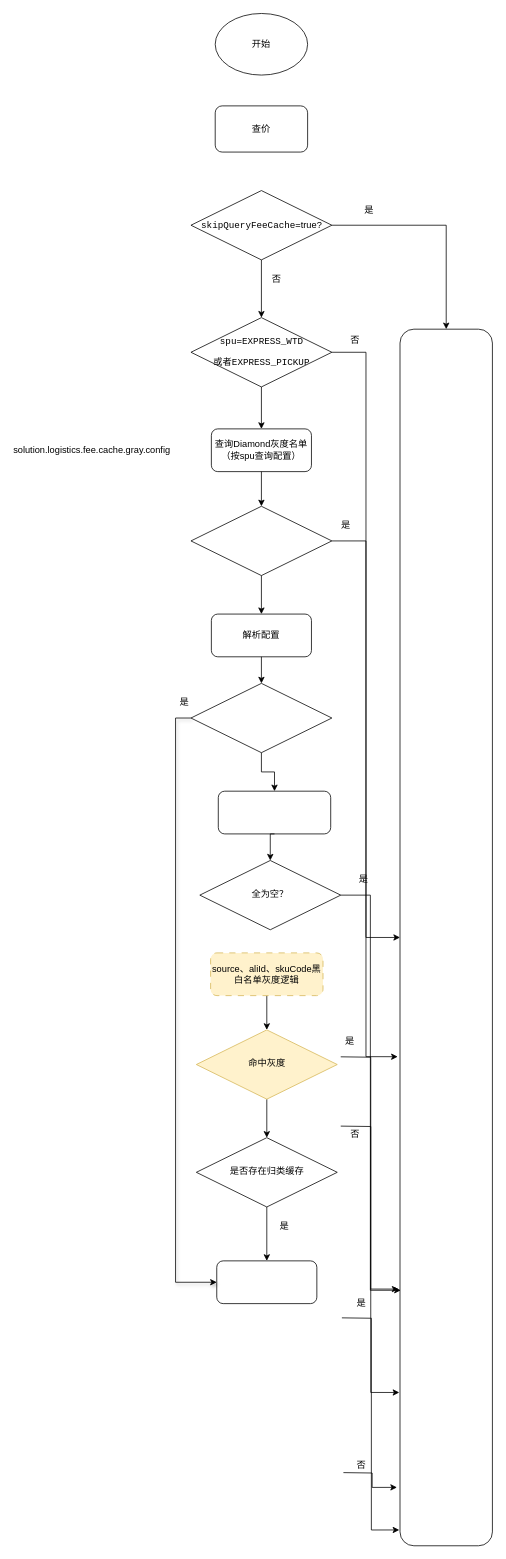
Some shapes in this 506 by 1559 pixel diagram are drawn without their labels. The centre of each missing label's shape, as x and y in pixels:
isAll=true?: the point at 261,718
实时查询: the point at 445,937
获取配置的sourceList、aliIdList、skuCodeList、excludeAliIdList、excludeSkuCodeList: the point at 274,812
费用项缓存: the point at 266,1282
配置为空？: the point at 261,541
